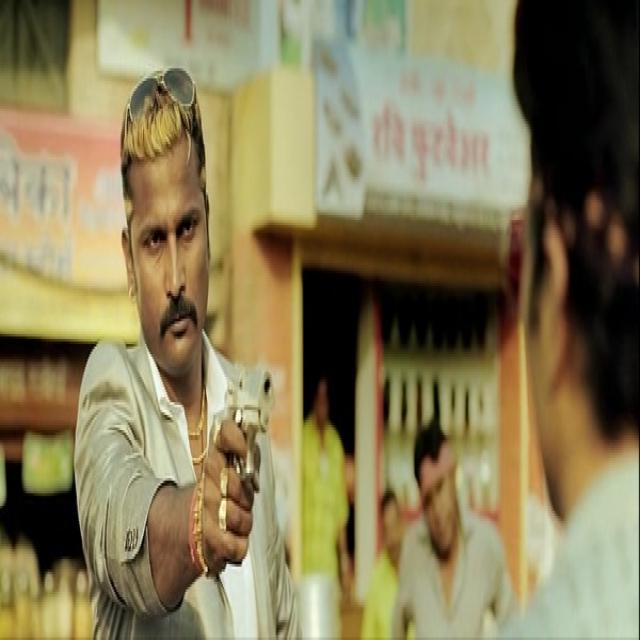weapons: (210, 327, 278, 574)
